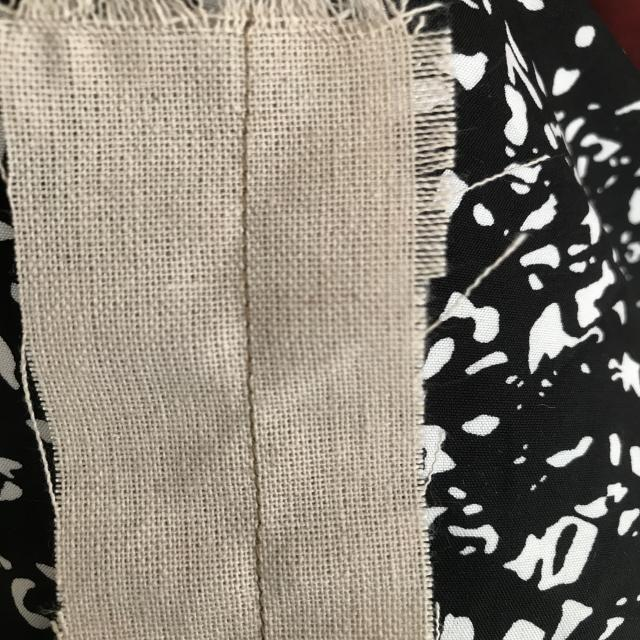good: (224, 237, 284, 372), (240, 448, 282, 550)
